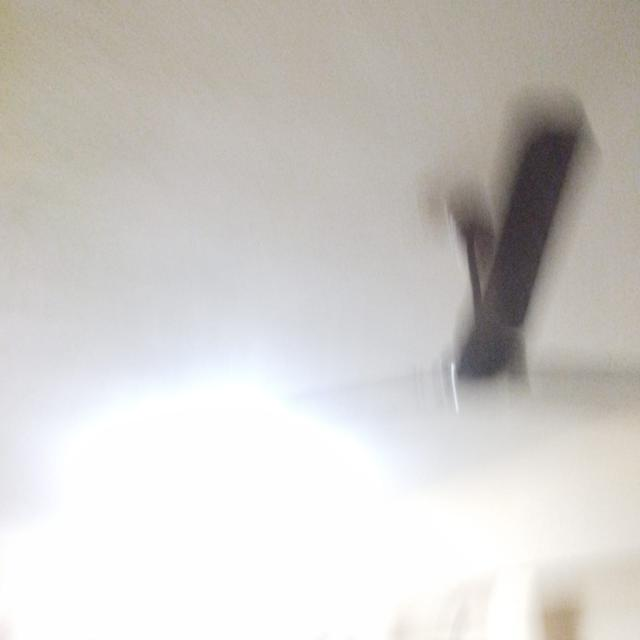fan_off: (402, 126, 640, 392)
